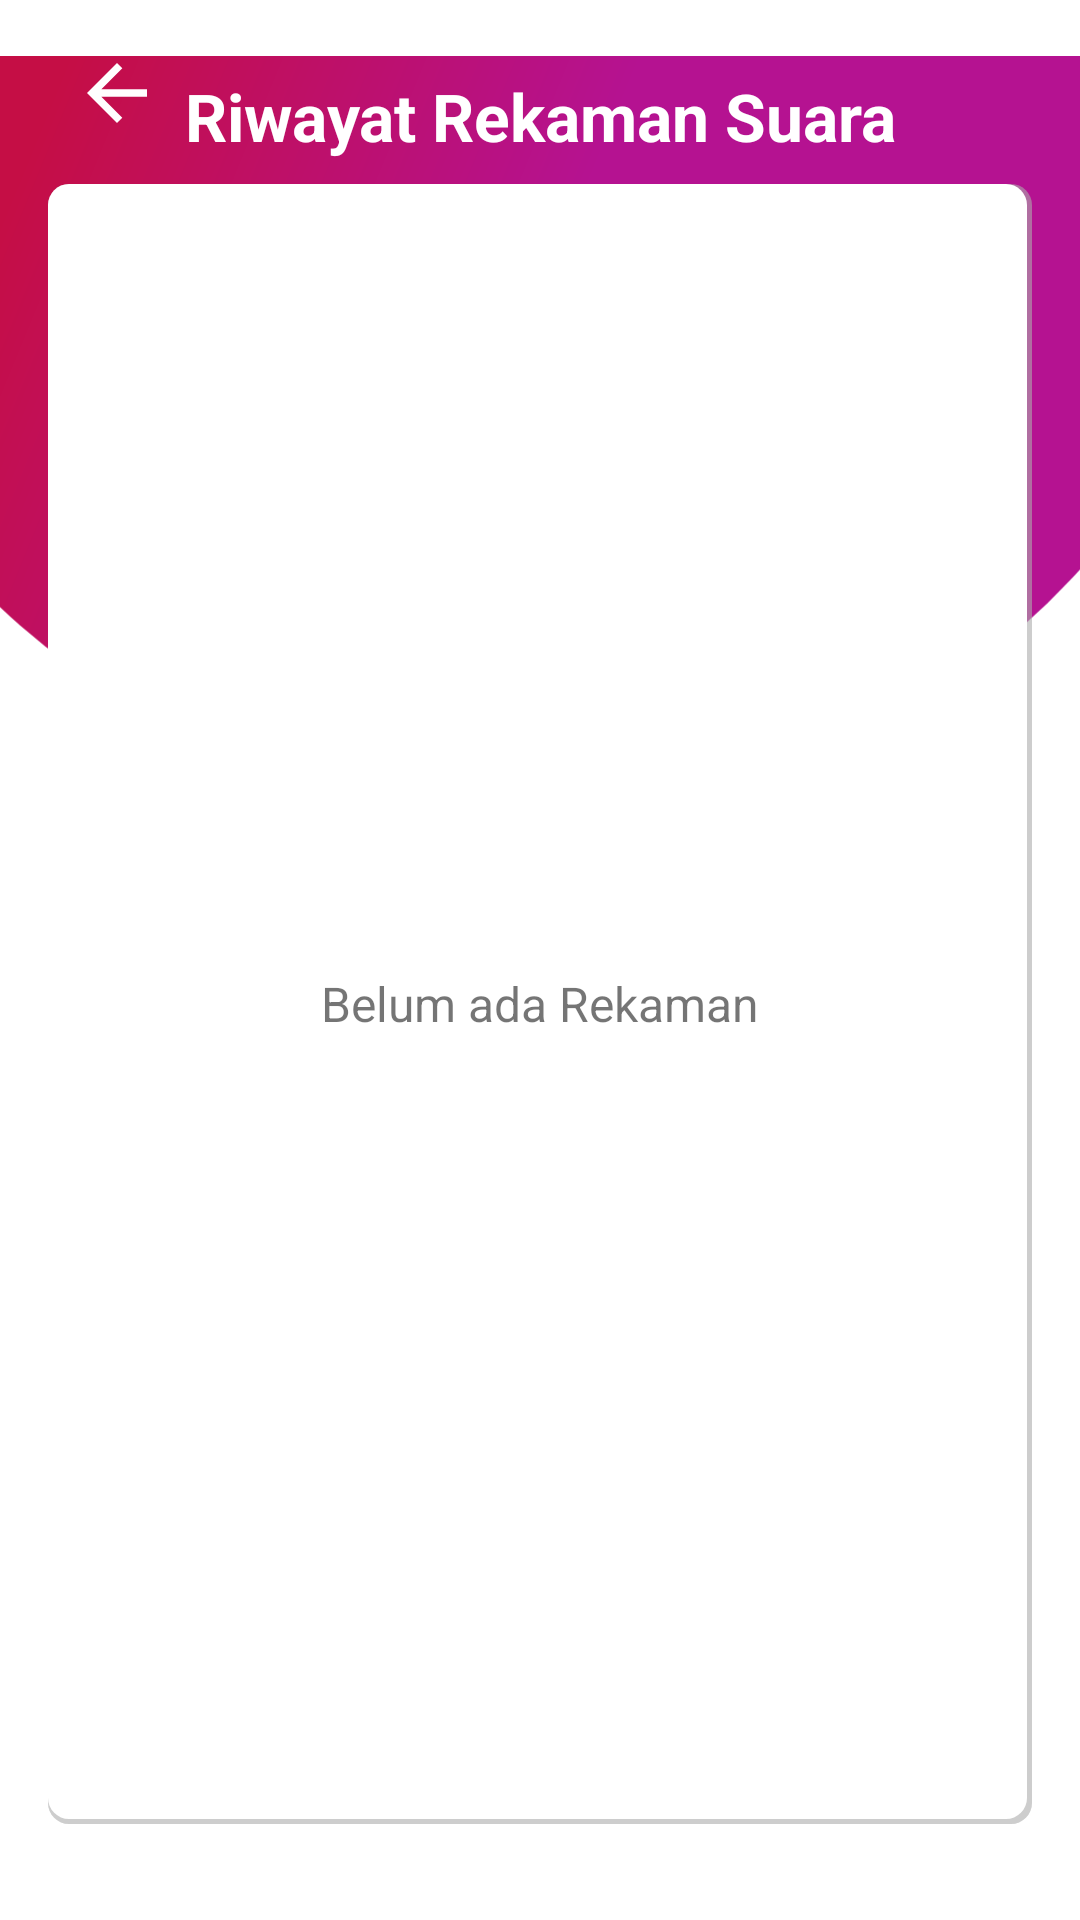

Where to tap for icons on this 1080 × 1920 app screen, as point (x, y):
Kembali: point (117, 93)
